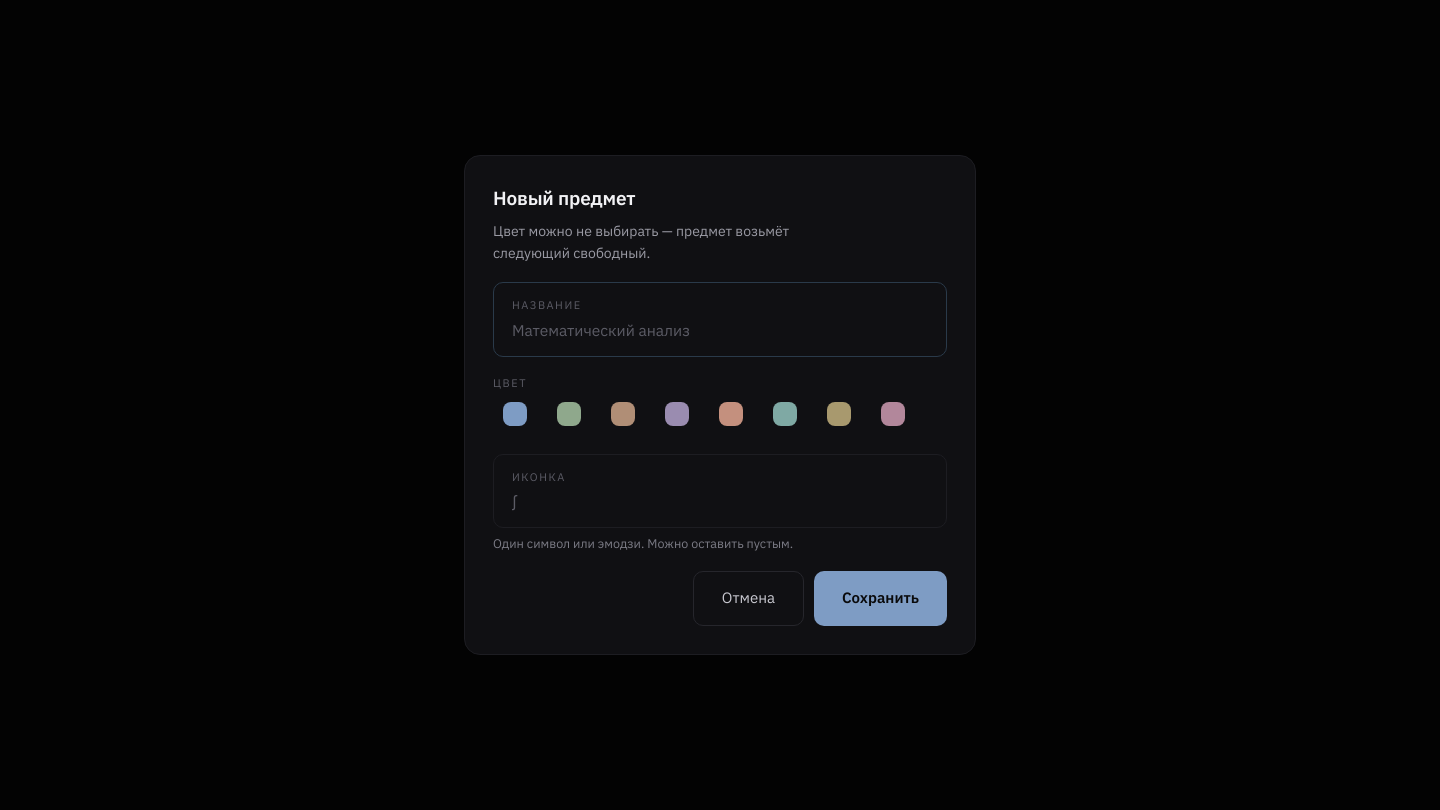
Test case: SubjectDialog › показывает отказ команды и не закрывает диалог
This screenshot has width=1440, height=810.
Click the button "Сохранить" at (880, 598), box [814, 571, 947, 626]
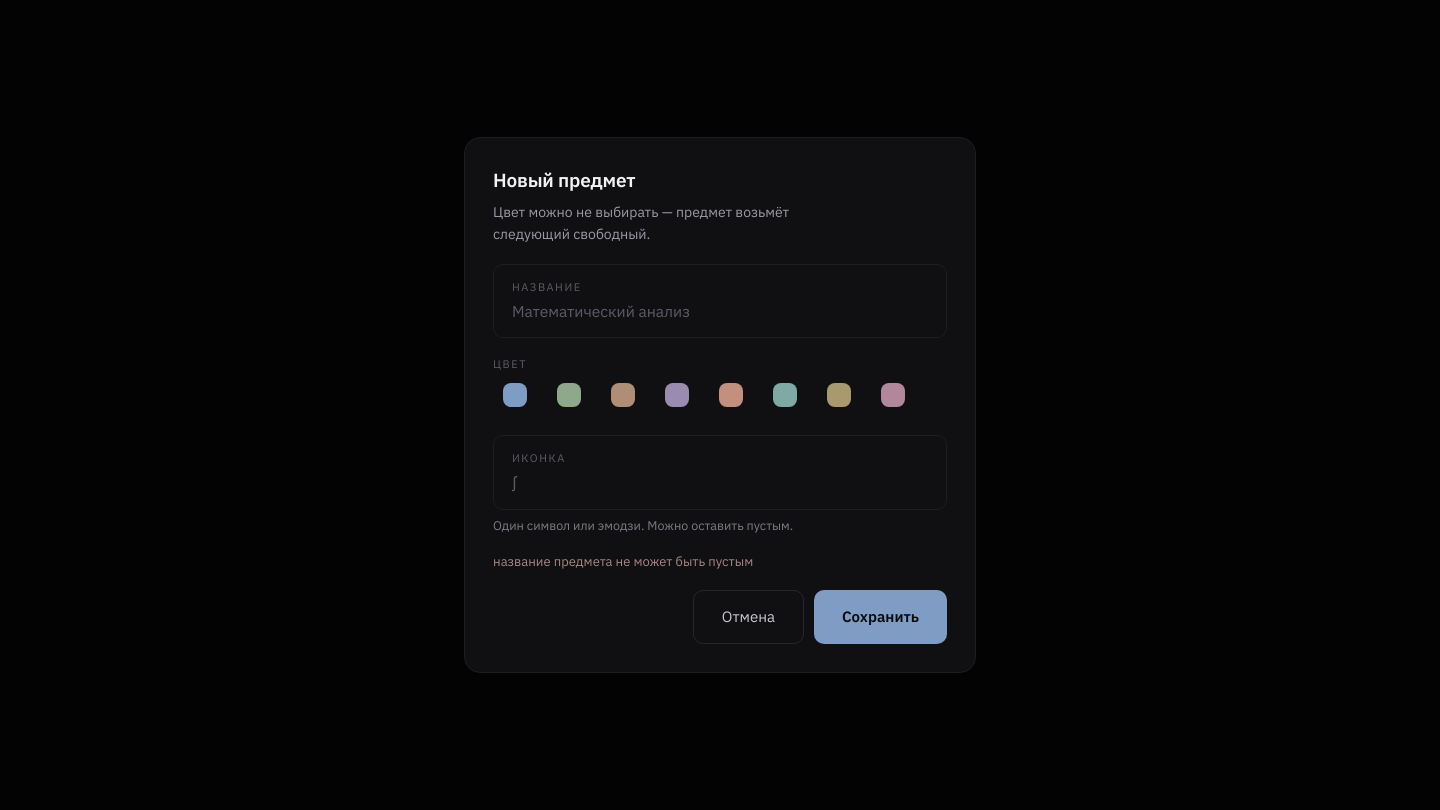
Check: the message reads "название предмета не может быть пустым", box [493, 553, 753, 570]
